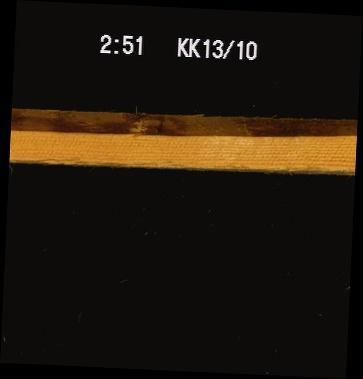wave: (11, 108, 356, 138)
